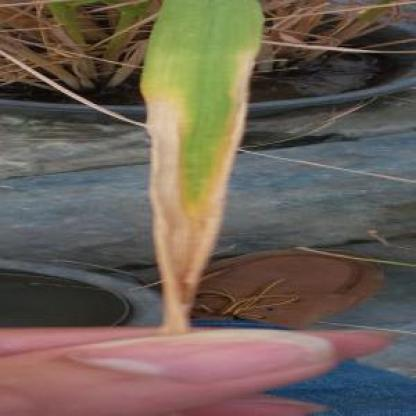Blight: (141, 38, 270, 328)
